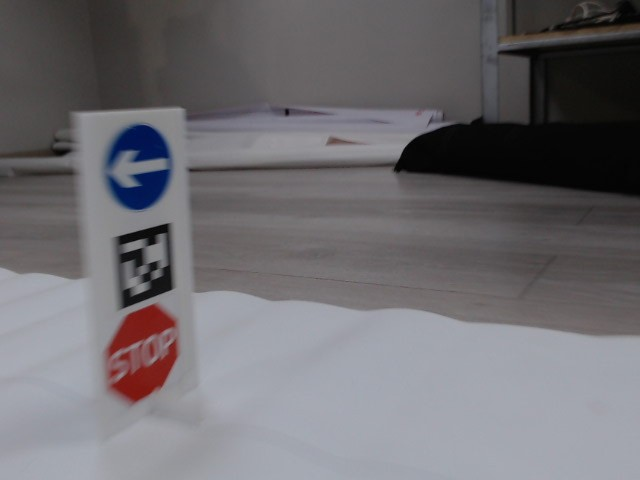Stop: (106, 305, 193, 399)
